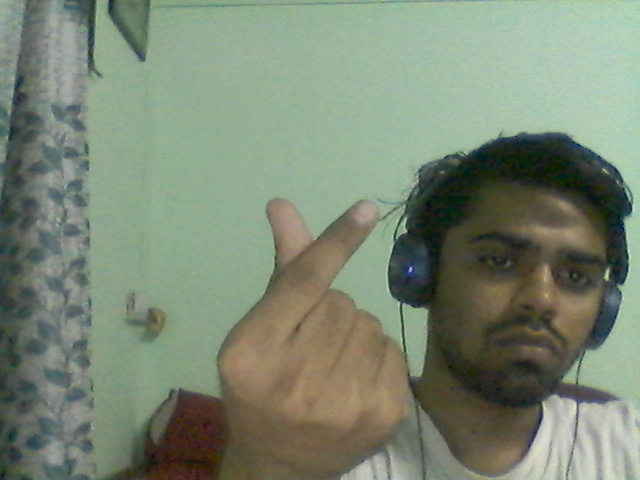I Love You: (189, 164, 430, 480)
